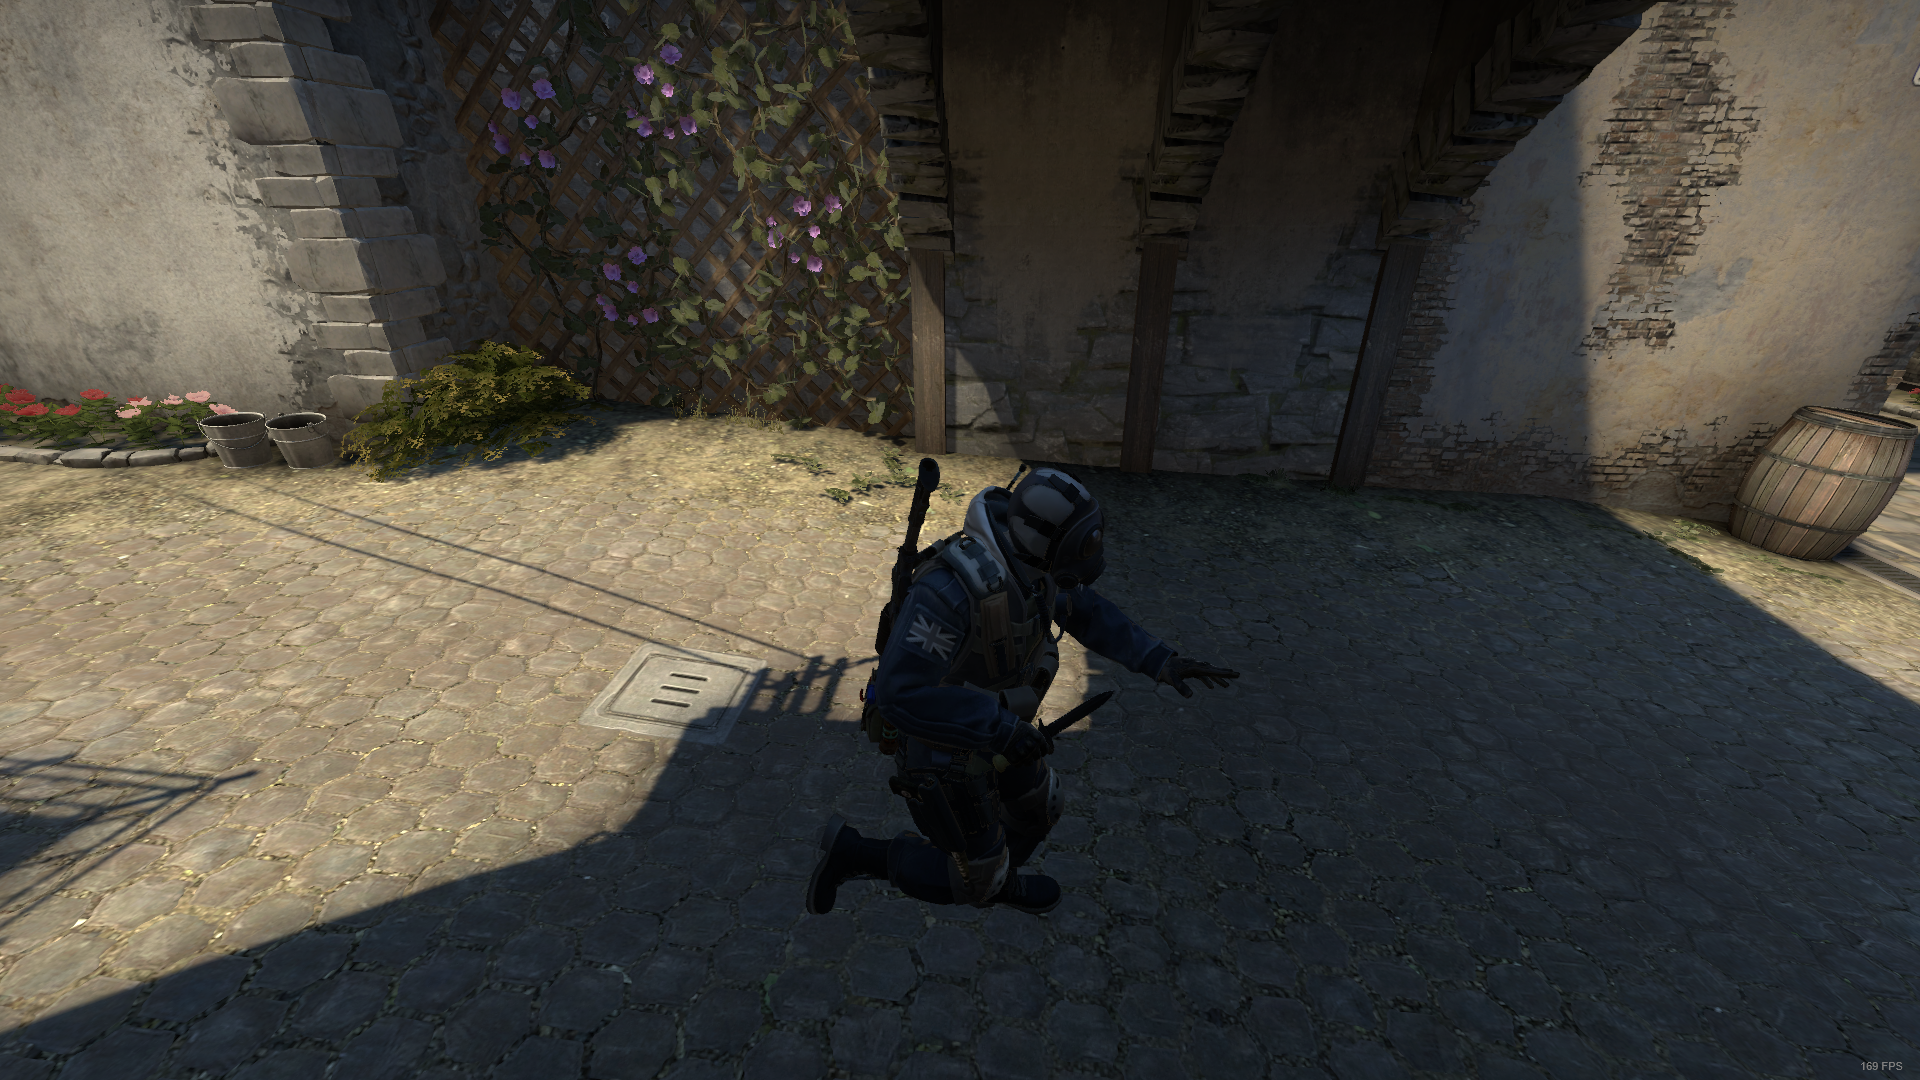ct: (808, 469, 1255, 967)
